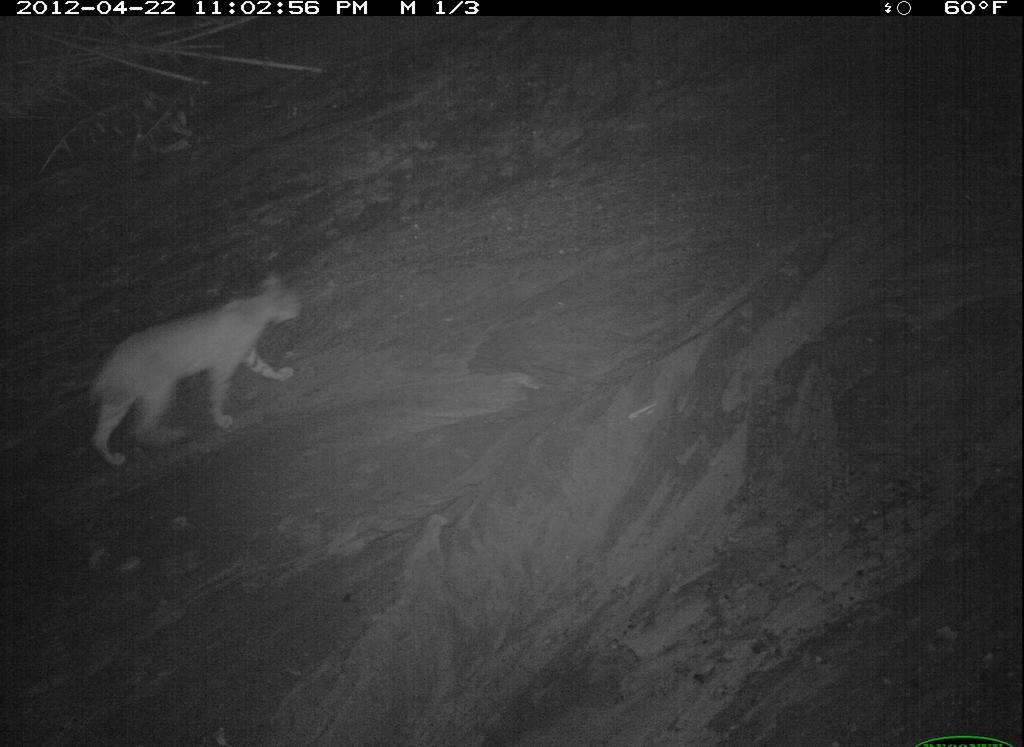bobcat: (167, 538, 620, 747)
